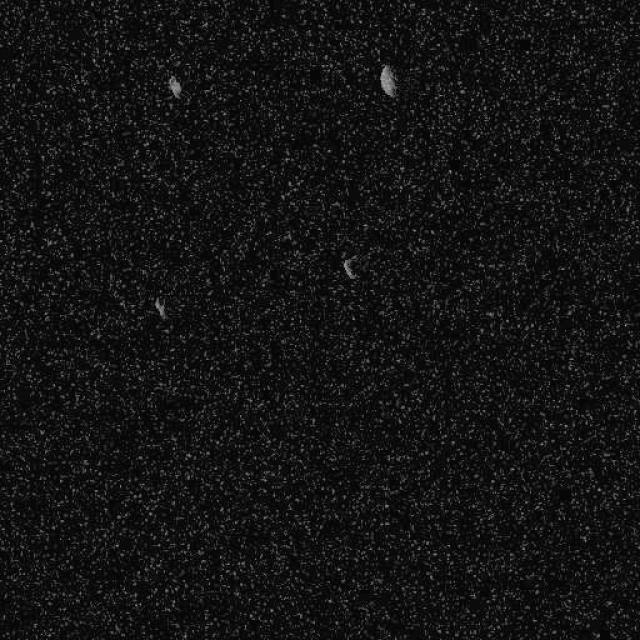D2: (378, 63, 398, 99), (166, 74, 182, 98), (152, 296, 168, 320), (342, 256, 358, 280)
